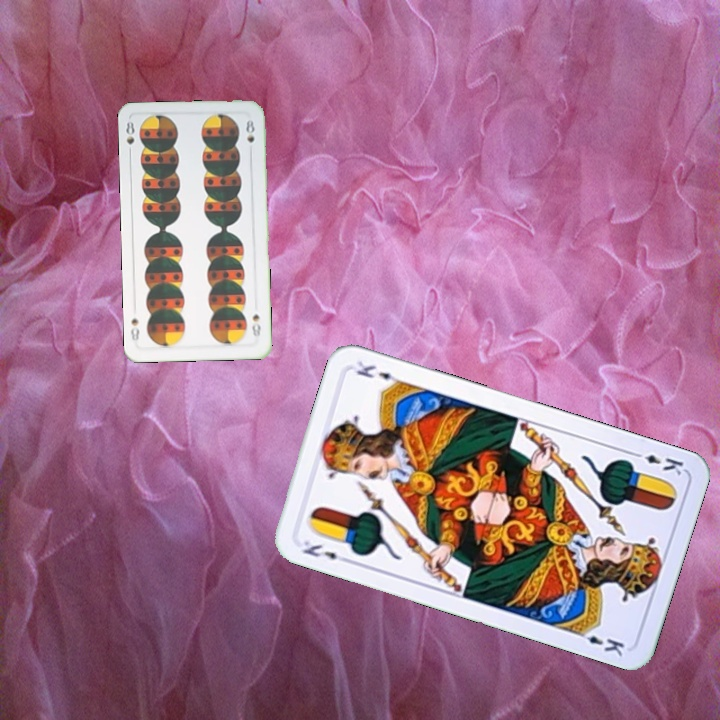EK: (628, 447, 686, 478), (298, 537, 352, 566)
S8: (122, 117, 137, 158), (248, 310, 263, 340)
